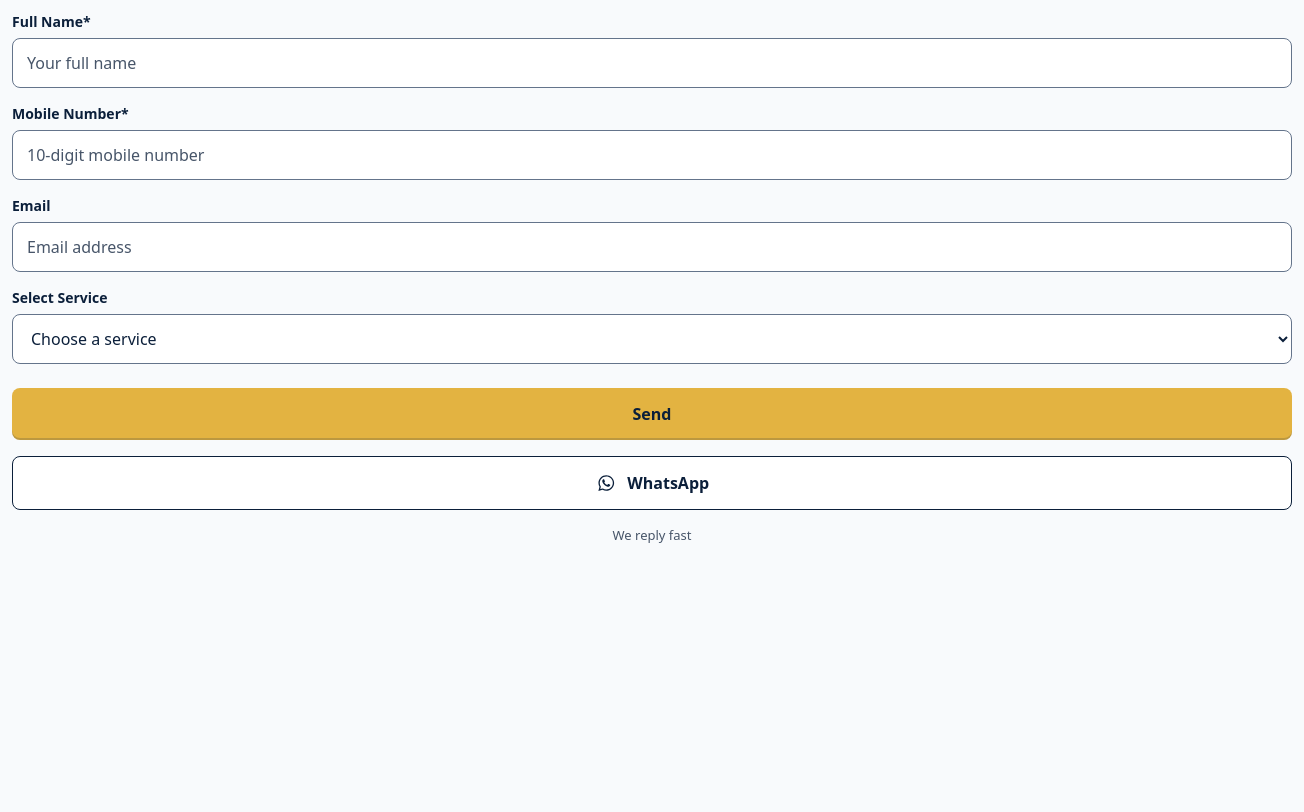
Test: site-wide text reaches the browser components › EnquiryForm shows the saved button, note and after-submit message
Expected: the text "We reply fast" is shown, [612,526,692,544]
In the field labelled "Full Name*": (652,63) [12,38,1292,88], type "Test Person"
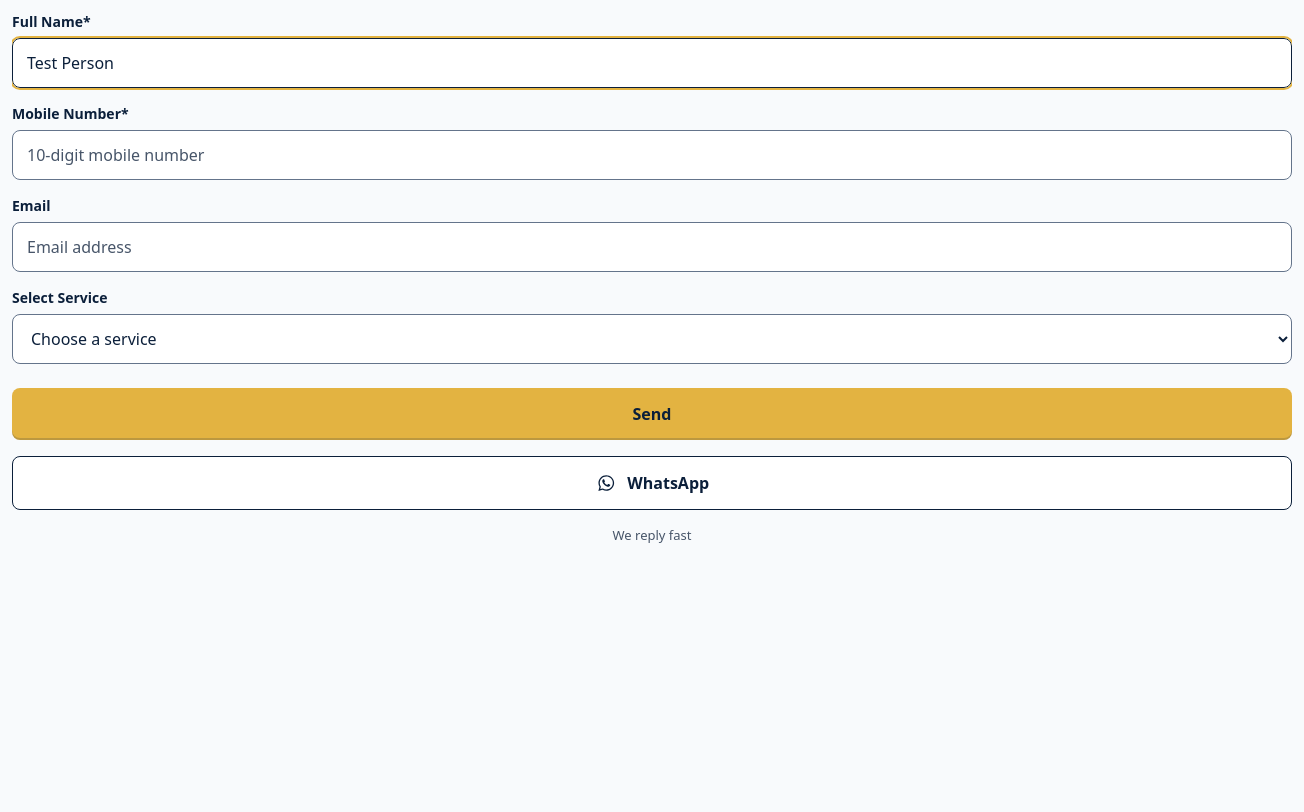
In the field labelled "Mobile Number*": (652,155) [12,130,1292,180], type "9000000000"
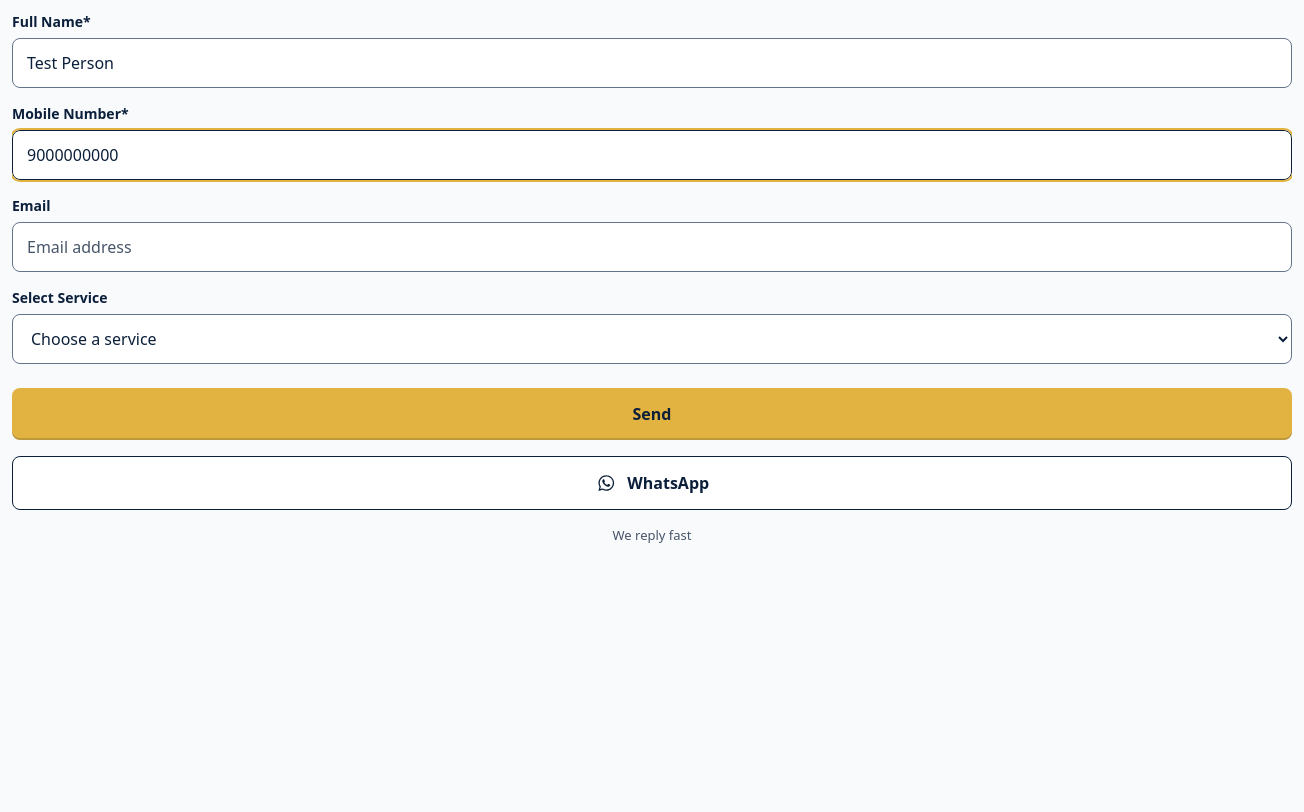
Click the button "Send": (652,414) [12,388,1292,440]
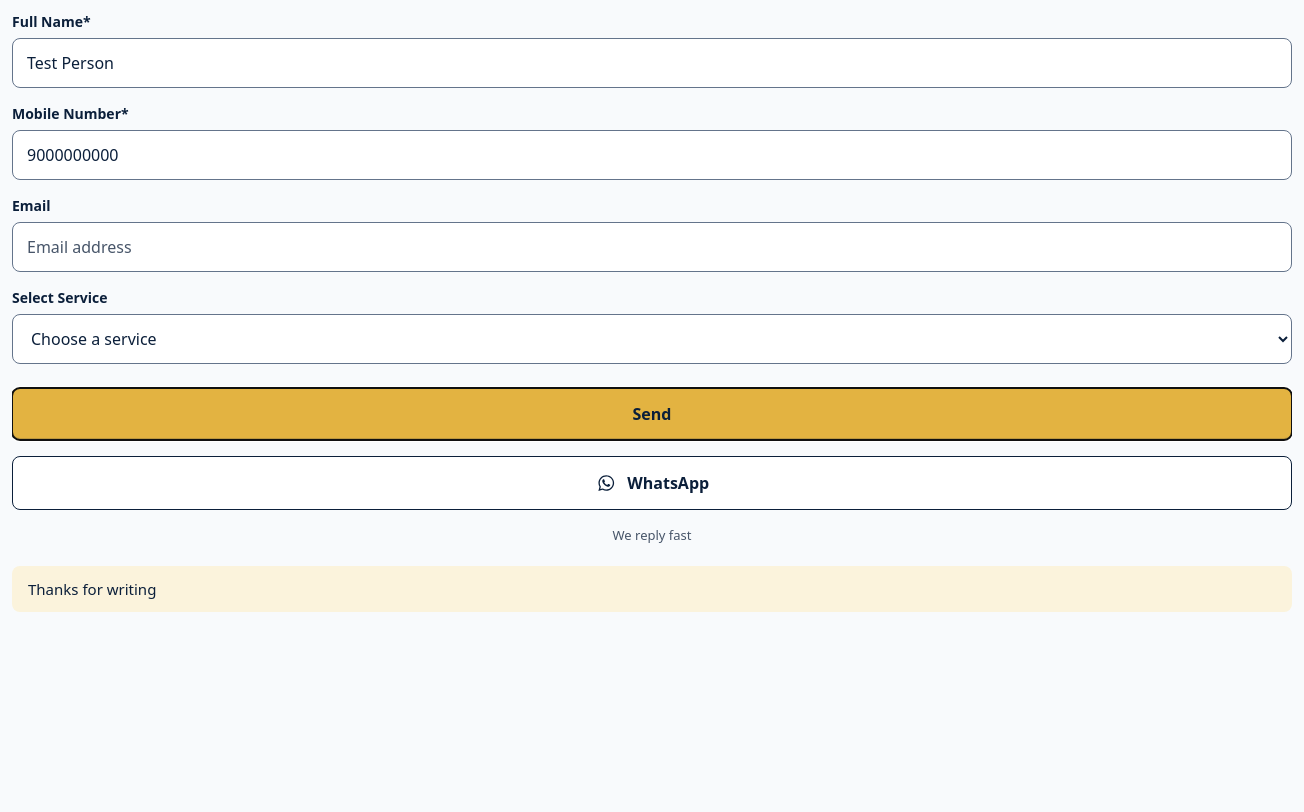
Expected: the message reads "Thanks for writing", [28,578,156,598]
